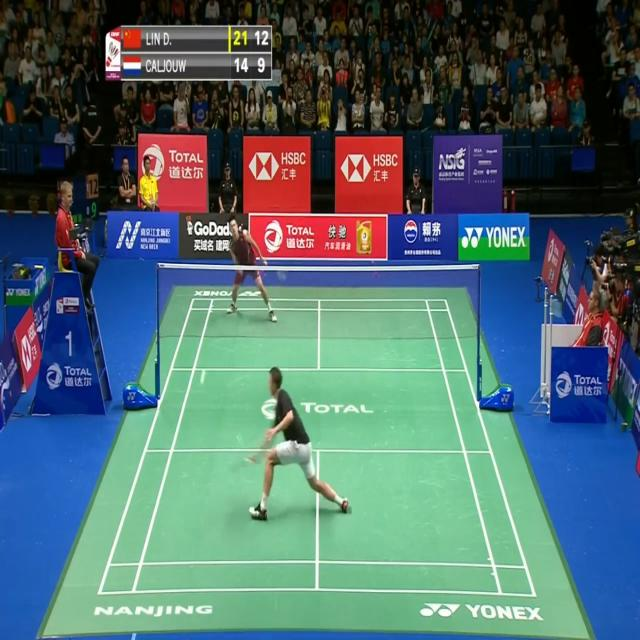Player1: (224, 366, 358, 526)
Player2: (218, 213, 292, 327)
